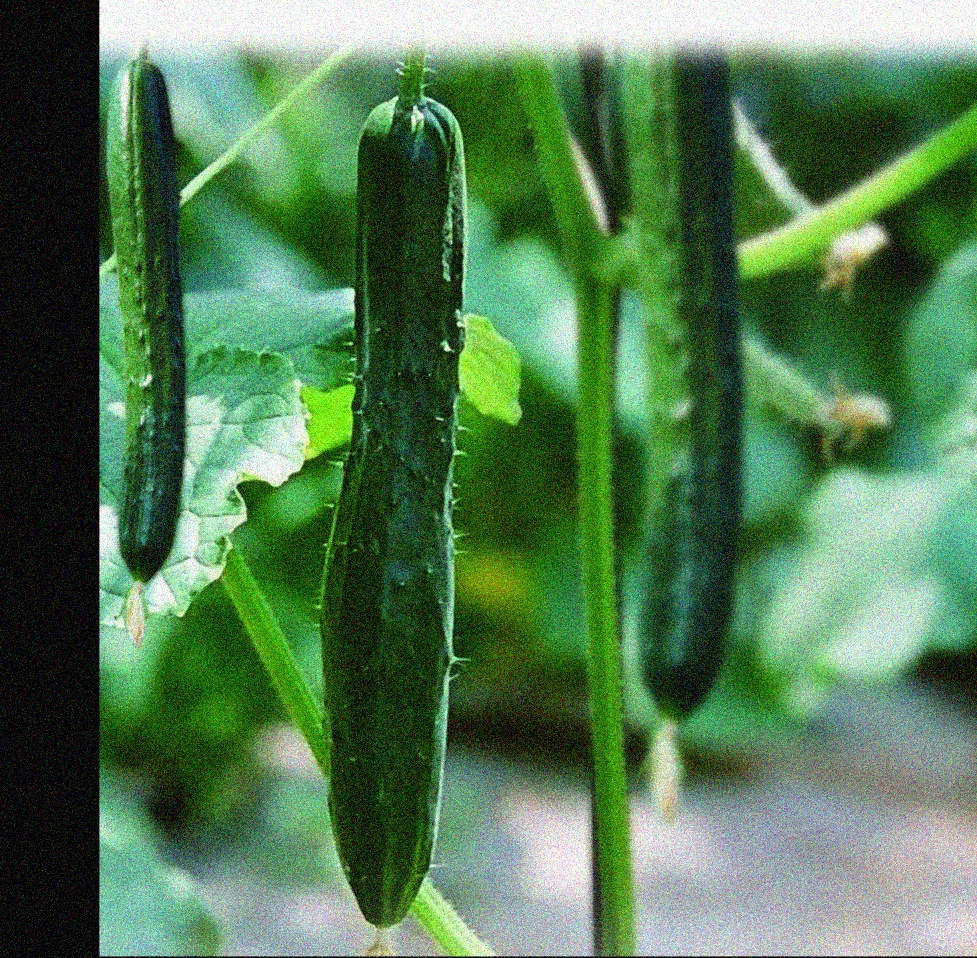cucumber: (307, 101, 485, 930), (100, 58, 198, 584)
